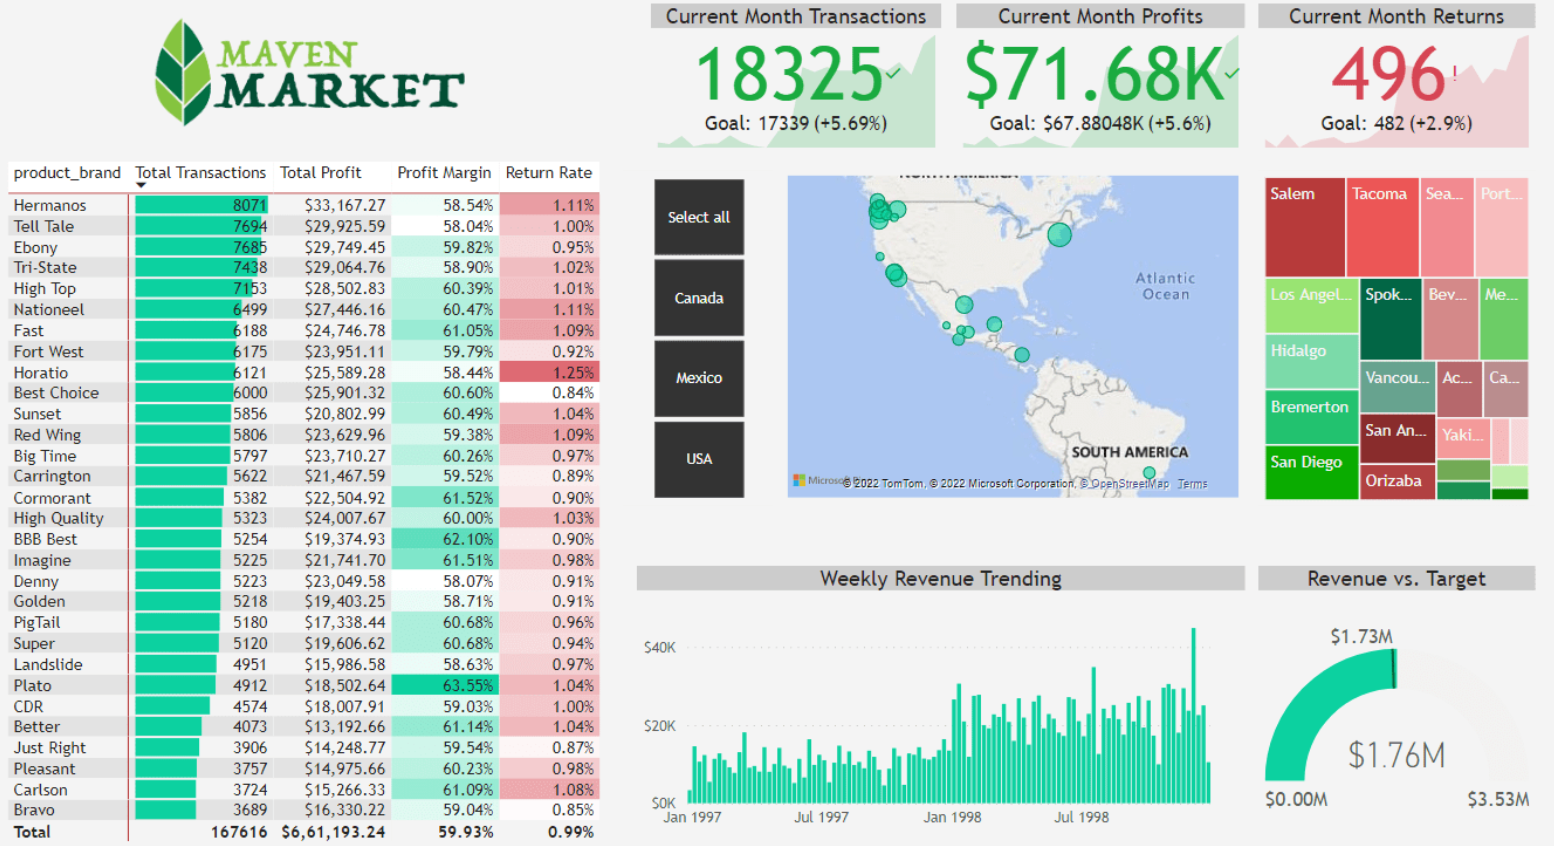

What the dashboard file says about the page in this screenshot:
{"tool":"powerbi","page":{"name":"Topline Performance","canvas":[1280,720],"ordinal":0},"visuals":[{"type":"image","box":[11.1,11.1,500.7,111.3],"z":0},{"type":"pivotTable","fields":{"Values":["Transactions_Data.Total Transactions","Transactions_Data.Total Profit","Transactions_Data.Profit Margin","Return_Data.Return Rate"],"Rows":["Products.product_brand"]},"box":[11.3,134.3,500,569.5],"z":1000},{"type":"kpi","title":"Current Month Transactions","fields":{"Indicator":["Transactions_Data.Total Transactions"],"TrendLine":["Calendar.Start of Month"],"Goal":["Transactions_Data.Last Month Transactions"]},"box":[540.4,11.1,236.8,122.4],"z":2000},{"type":"kpi","title":"Current Month Returns","fields":{"TrendLine":["Calendar.Start of Month"],"Goal":["Return_Data.Last Month Returns"],"Indicator":["Return_Data.Total Returns"]},"box":[1036.3,11.1,225.7,122.4],"z":3000},{"type":"kpi","title":"Current Month Profits","fields":{"Indicator":["Transactions_Data.Total Profit"],"TrendLine":["Calendar.Start of Month"],"Goal":["Transactions_Data.Last Month Profit"]},"box":[789.9,11.1,235.2,122.4],"z":4000},{"type":"map","fields":{"Category":["Stores.store_city"],"Size":["Transactions_Data.Total Transactions"]},"box":[646.9,146.2,378.3,273.4],"z":5000},{"type":"slicer","fields":{"Values":["Stores.store_country"]},"box":[518.1,147.8,122.4,273.4],"z":6000},{"type":"treemap","fields":{"Group":["Stores.store_country","Stores.store_state","Stores.store_city"],"Values":["Transactions_Data.Total Transactions"]},"box":[1036.3,147.8,225.7,273.4],"z":7000},{"type":"clusteredColumnChart","title":"Weekly Revenue Trending","fields":{"Category":["Calendar.Start of Week"],"Y":["Transactions_Data.Total Revenue"]},"box":[529.3,468.9,495.9,222.5],"z":8000},{"type":"gauge","title":"Revenue vs. Target","fields":{"Y":["Transactions_Data.Total Revenue"],"TargetValue":["Transactions_Data.Revenue Target"]},"box":[1036.3,468.9,225.7,222.5],"z":9000}]}

Visuals, with their boxes on the page's 1280x720 design canvas (x1, y1, x2, y2). These are canvas units, not pixel positions in the 1554x846 screenshot, which may show the page scaled, cropped or inside an application window:
image: [11, 11, 512, 122]
pivotTable - Transactions_Data.Total Transactions x Transactions_Data.Total Profit: [11, 134, 511, 704]
"Current Month Transactions" kpi: [540, 11, 777, 134]
"Current Month Returns" kpi: [1036, 11, 1262, 134]
"Current Month Profits" kpi: [790, 11, 1025, 134]
map - Stores.store_city x Transactions_Data.Total Transactions: [647, 146, 1025, 420]
slicer - Stores.store_country: [518, 148, 640, 421]
treemap - Stores.store_country x Stores.store_state: [1036, 148, 1262, 421]
"Weekly Revenue Trending" clusteredColumnChart: [529, 469, 1025, 691]
"Revenue vs. Target" gauge: [1036, 469, 1262, 691]
